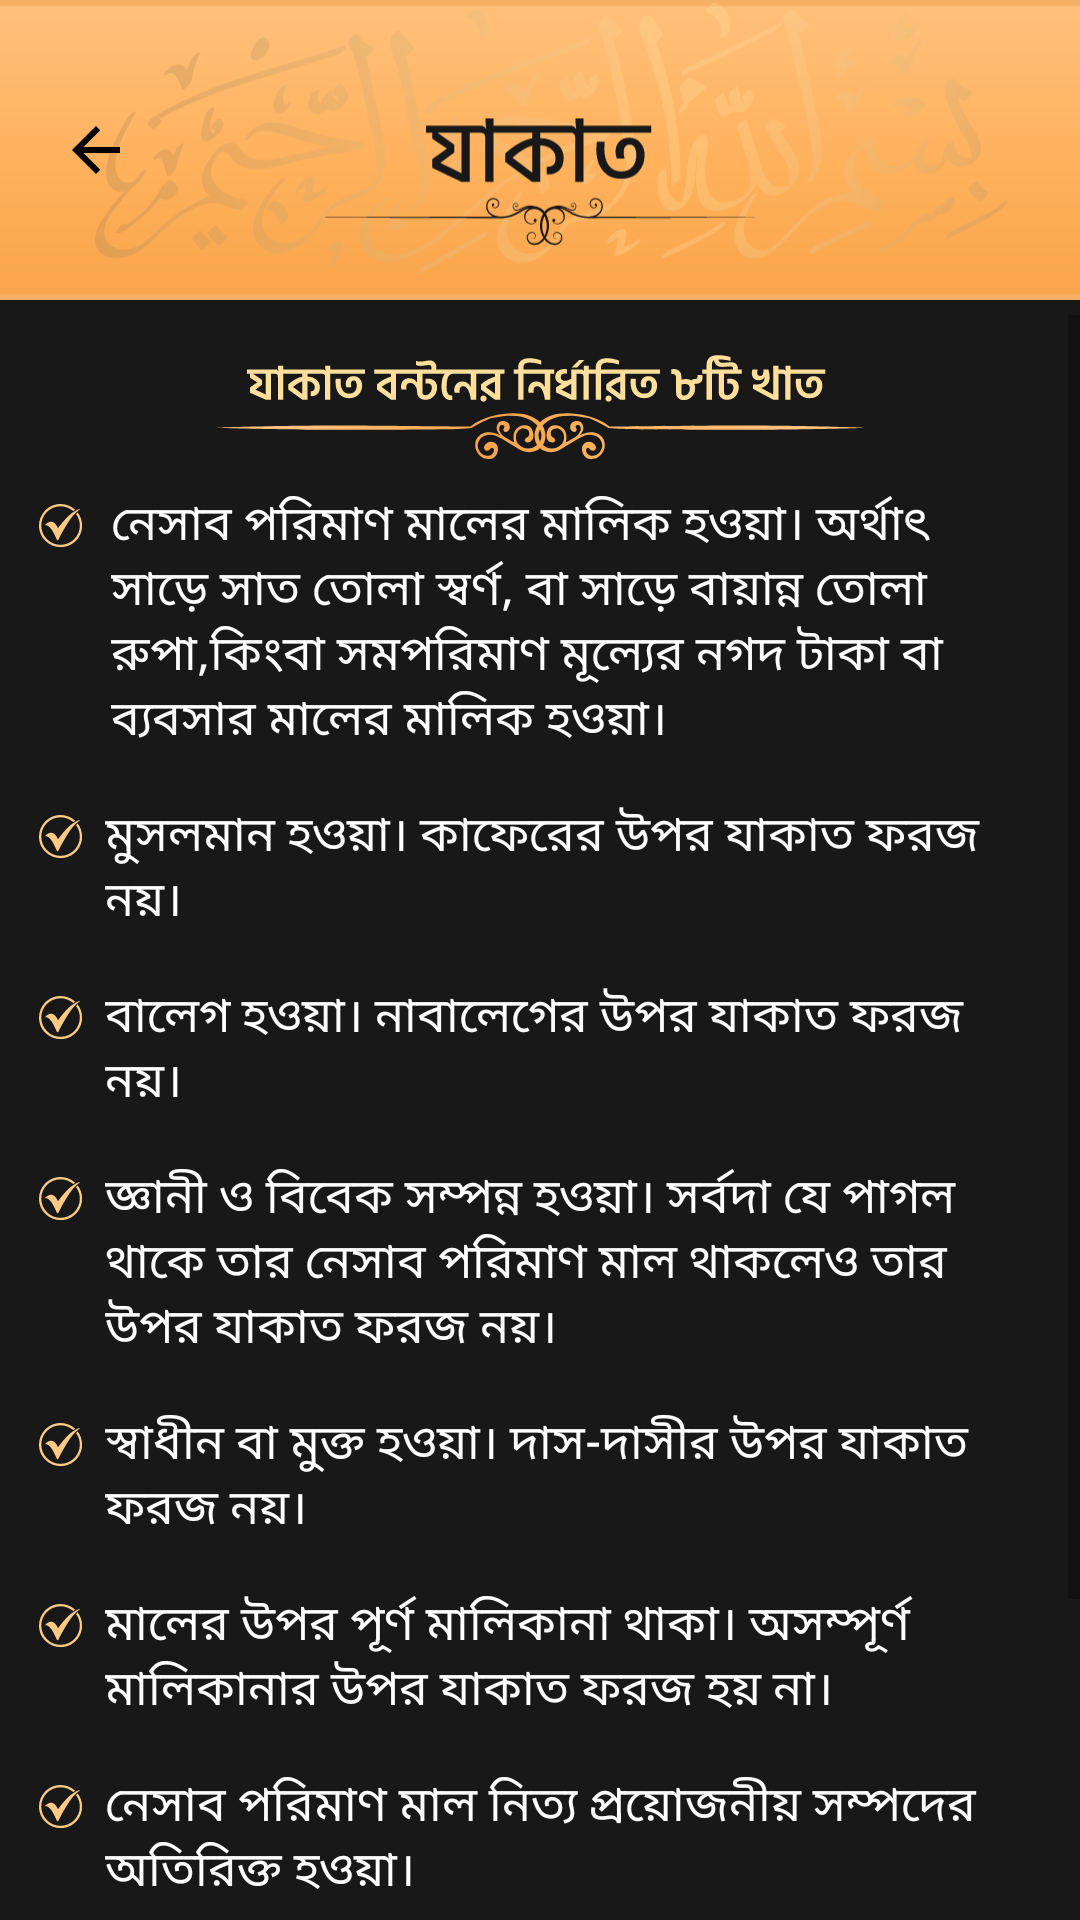

Where icons sit on this 1080 x 1920 app screen, as (x1, y1, x2, y2):
point: (39, 504, 82, 548), (39, 815, 82, 859), (39, 996, 82, 1040), (39, 1177, 82, 1221), (39, 1423, 82, 1467), (39, 1604, 82, 1648), (39, 1785, 82, 1829)
